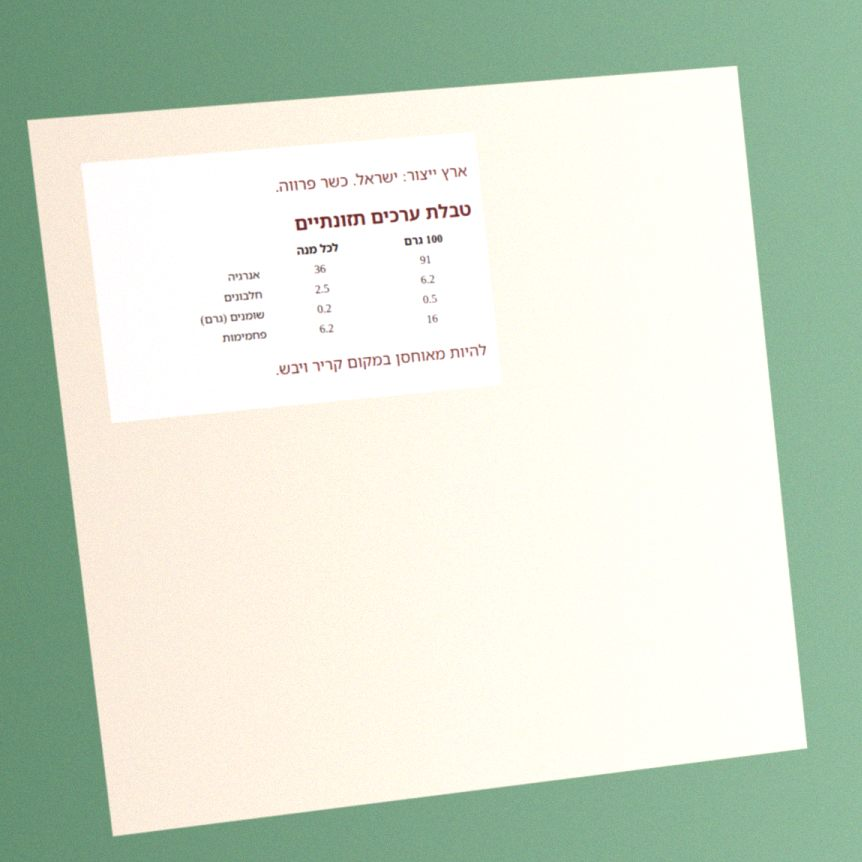carbs: (424, 308, 441, 329)
energy: (417, 249, 434, 270)
fat: (420, 288, 440, 309)
protein: (418, 269, 438, 289)
